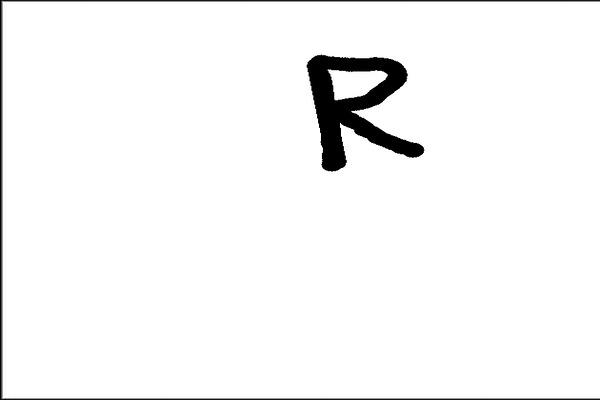R: (295, 43, 431, 176)
